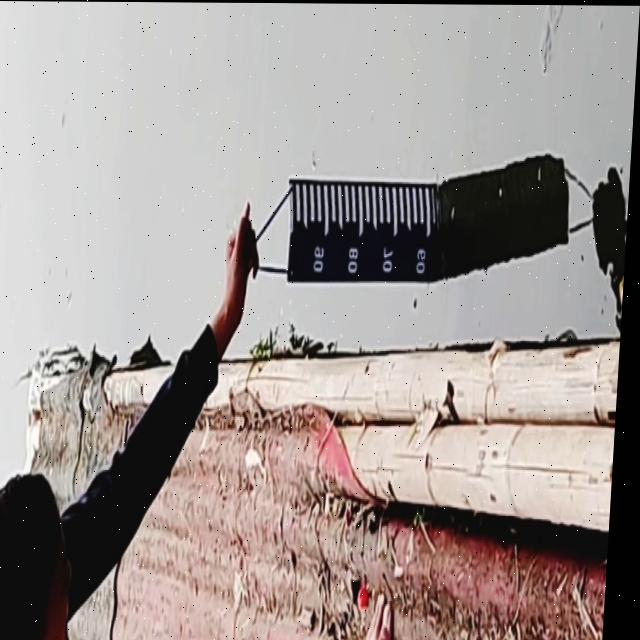water-meter: (274, 161, 460, 304)
